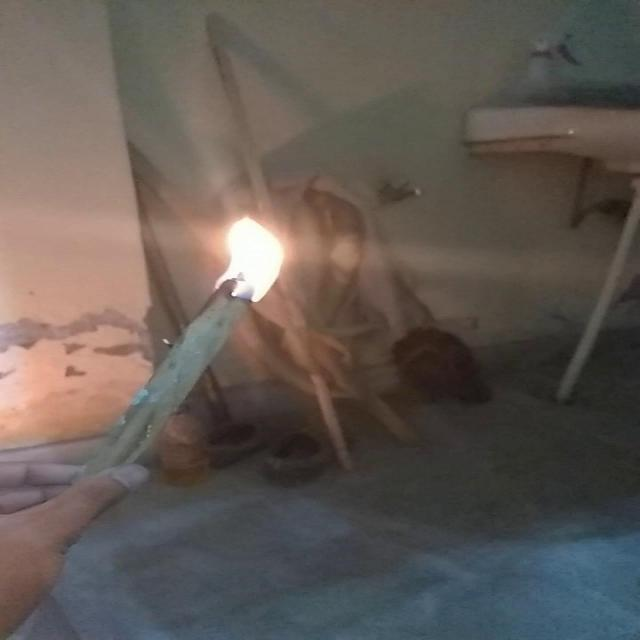fire: (199, 203, 297, 315)
